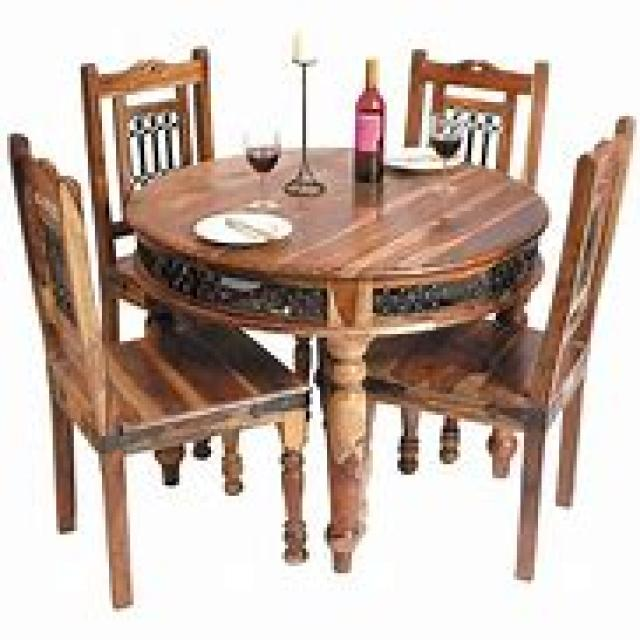chair: (7, 130, 309, 608), (344, 113, 636, 580), (77, 42, 320, 489), (313, 46, 549, 474)
table: (123, 140, 549, 570)
